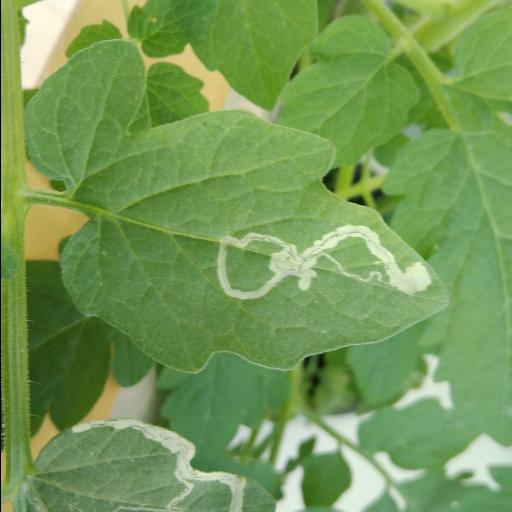disease_tomato: (24, 40, 452, 374), (33, 418, 287, 510)
